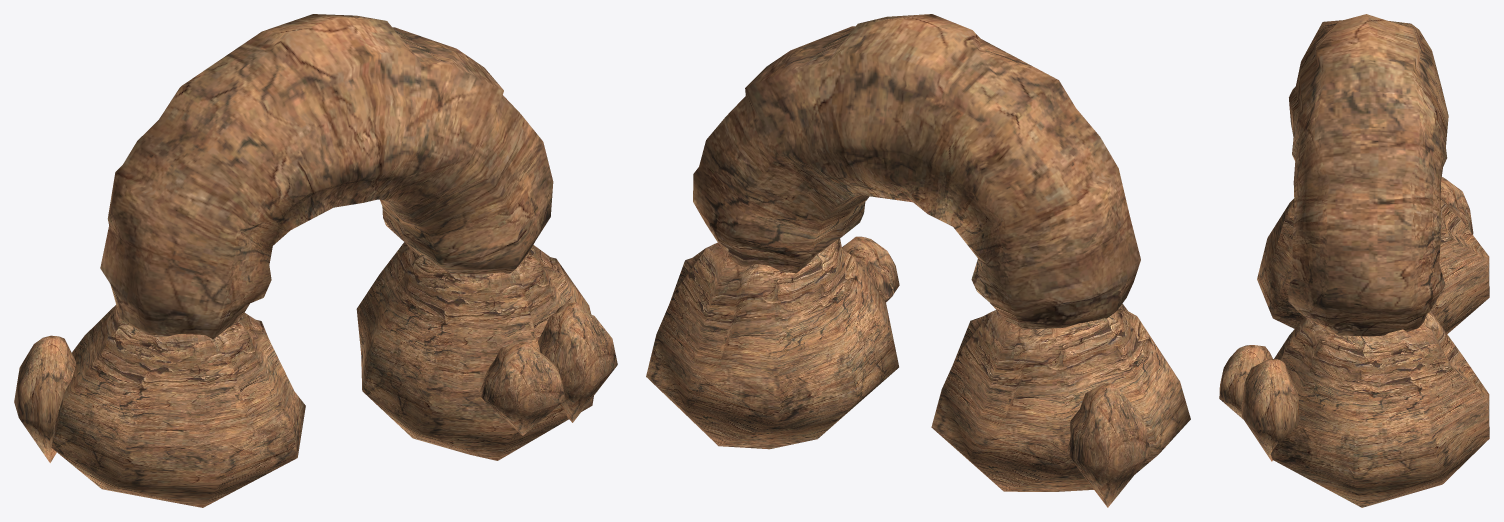
Rendered from rock_tatt_arch_sm_l1.fbx.
The picture shows the model from 3 angles, left to right: view 1: azimuth 30°, elevation 25°; view 2: azimuth 150°, elevation 25°; view 3: azimuth 270°, elevation 25°; orthographic projection. The views are drawn at different scales.
Parts seen in each view (by area): view 1: mesh_node; view 2: mesh_node; view 3: mesh_node.
Part boxes in pixels (left/top/right/bottom): mesh_node: left=14, top=14, right=617, bottom=507; mesh_node: left=646, top=14, right=1190, bottom=507; mesh_node: left=1219, top=14, right=1489, bottom=507.
Size of the model in its own units: 46.64 by 39.05 by 23.32.
